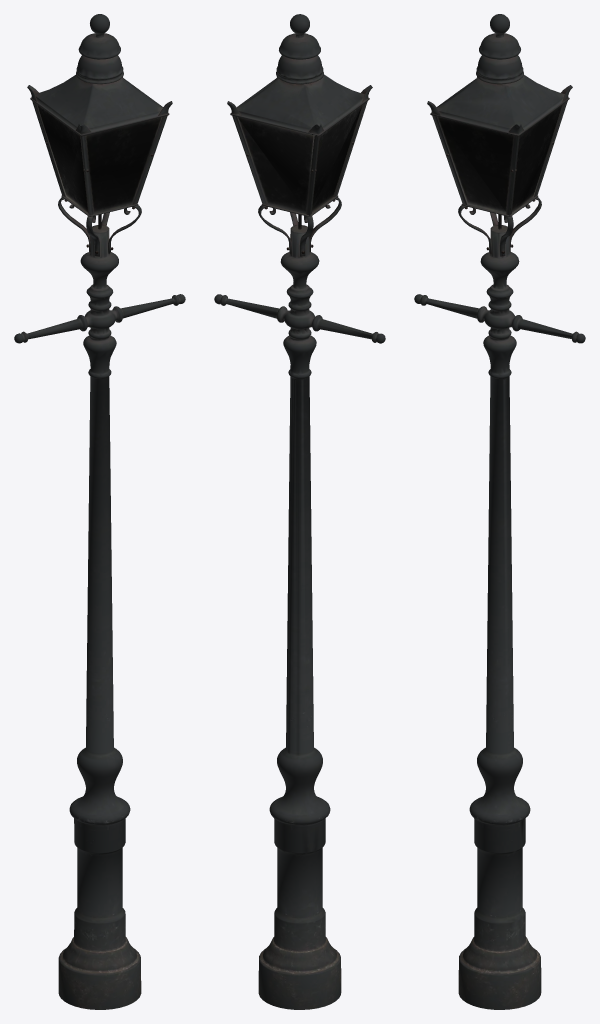
Rendered from lamp-desktop.glb.
3 renders of one model, left to right at view 1: azimuth 30°, elevation 25°; view 2: azimuth 150°, elevation 25°; view 3: azimuth 330°, elevation 25°, orthographic.
Parts seen in each view (by area): view 1: street_lamp_01; view 2: street_lamp_01; view 3: street_lamp_01.
Part boxes in pixels (x1,y1,x2,y2): street_lamp_01: (14, 14, 185, 1009); street_lamp_01: (214, 14, 385, 1009); street_lamp_01: (414, 14, 585, 1009).
Bounding box in the file's own units: 0.7037 × 3.87 × 0.3862.
2 materials, 2 textured.
